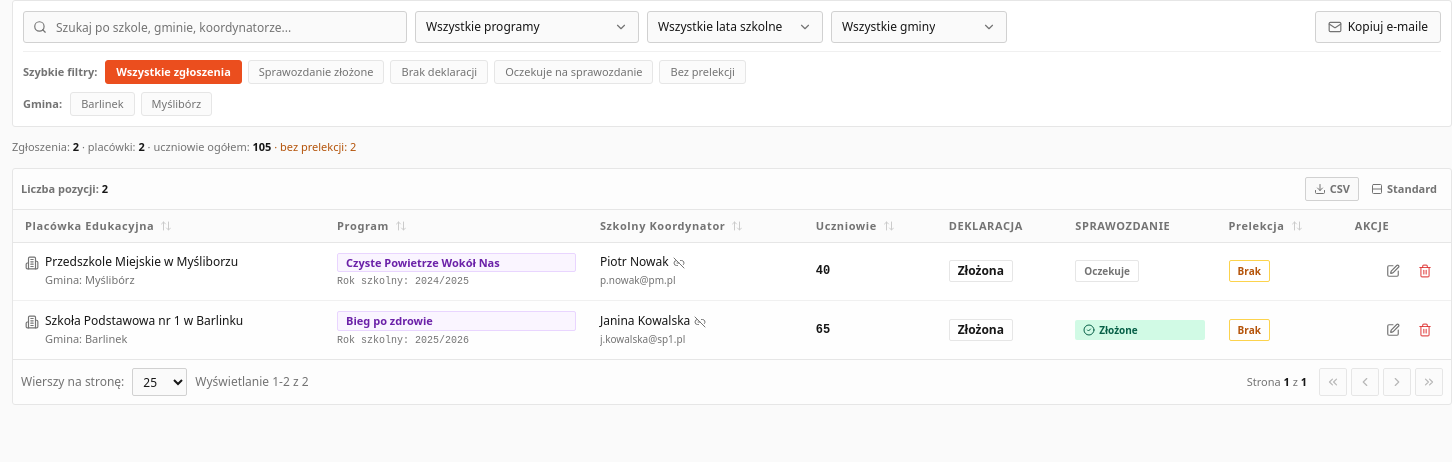
it: Komponenty programów: przypadki brzegowe › Complex Filter Combinations › displays EmptyState with clear button when complex filter combination yields 0 results
The width and height of the screenshot is (1452, 462).
// Search for something that doesn't exist
Type "ZupełnieNieistniejącaSzkoła" into the field labelled "Szukaj po szkole, gminie, koordynatorze".
click(215, 27); type("ZupełnieNieistniejącaSzkoła")  # box [23,11,407,43]
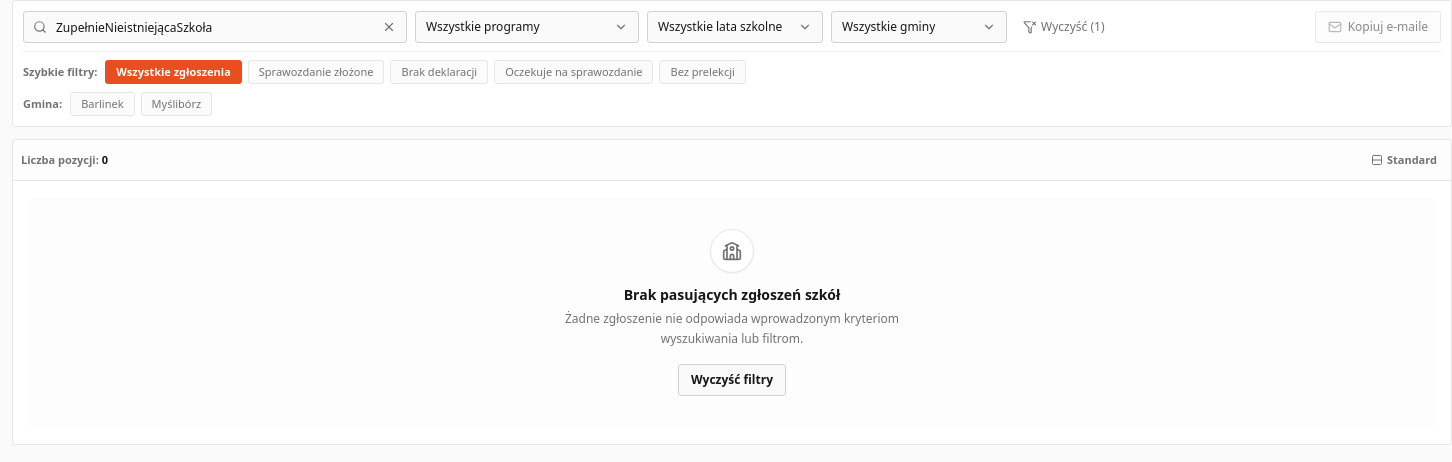
Now the heading "Brak pasujących zgłoszeń szkół" is shown, box [624,285,840,305]
Now the button "Wyczyść filtry" is shown
// Click clear filters
Click the button "Wyczyść filtry".
click(732, 380)  # box [678,364,786,396]
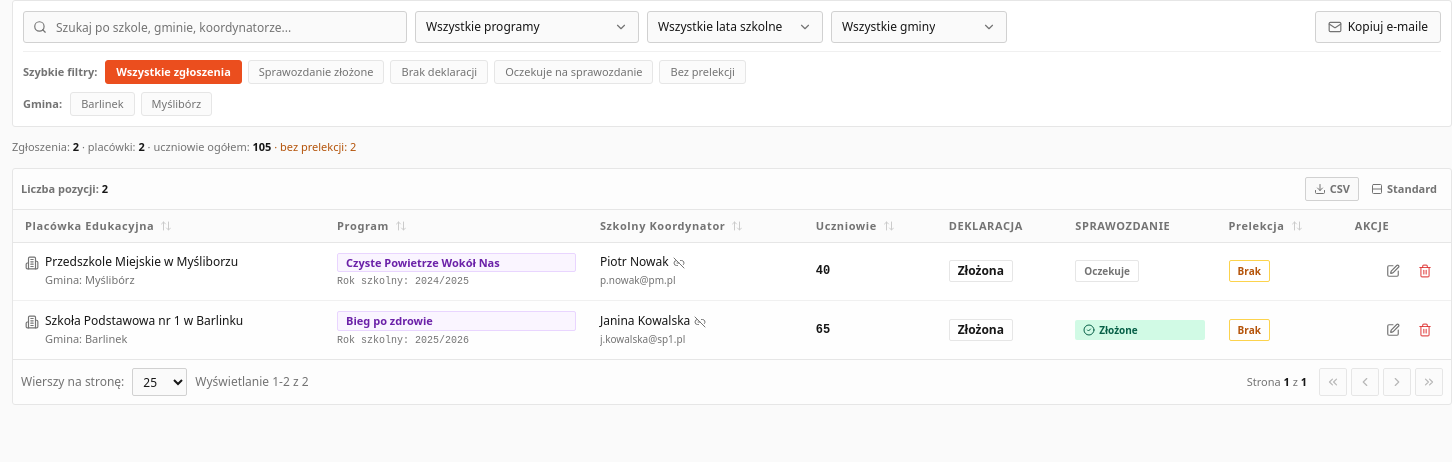
Now the text "Szkoła Podstawowa nr 1 w Barlinku" is shown, box [45,313,243,328]
Now the text "Przedszkole Miejskie w Myśliborzu" is shown, box [45,254,238,269]
